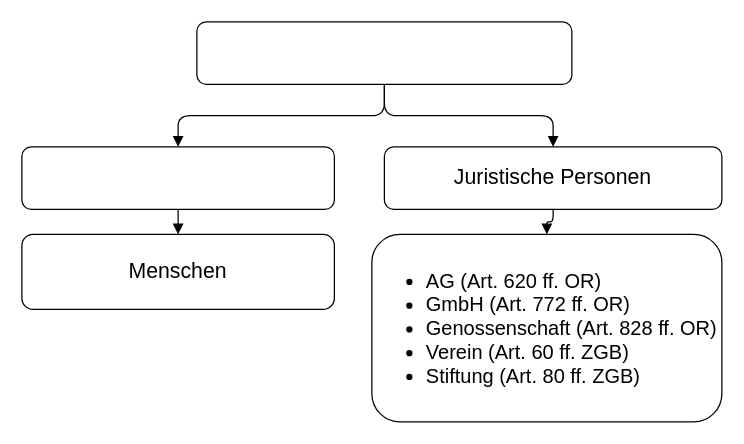
The diagram is 744 pixels wide and 444 high, and some of its shapes have lost their labels. The shapes that lost their labels are listed below. From the top down, each one's centre as x and y in pixels, then its label:
At point 384,52: "Personen (Rechtssubjekte)".
At point 177,177: "Natürliche Personen".
